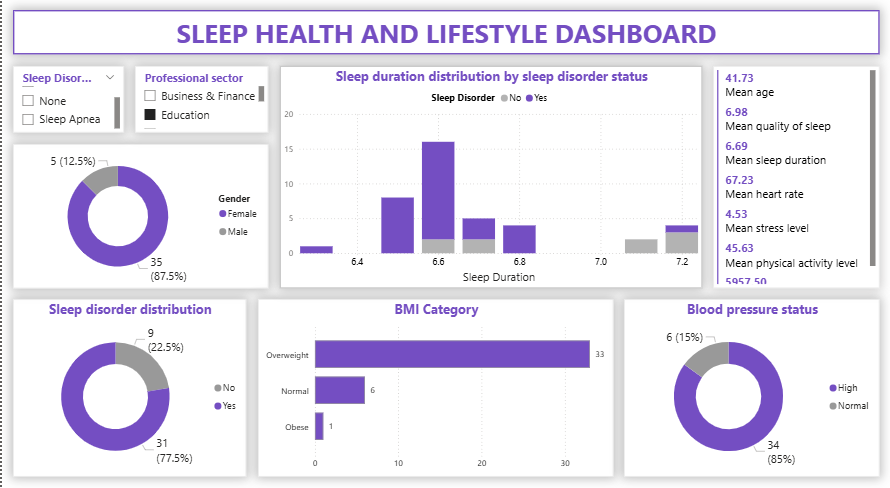

What the dashboard file says about the page in this screenshot:
{"tool":"powerbi","page":{"name":"Page 1","canvas":[1280,720],"ordinal":0},"visuals":[{"type":"textbox","box":[16,32,1248,64],"z":0},{"type":"donutChart","title":"Sleep disorder distribution","fields":{"Y":["CountNonNull(sleep_dataset_cleaned.Column1)"],"Category":["sleep_dataset_cleaned.Sleep_Disorder_Flag"]},"box":[16,448,336,256],"z":1000},{"type":"donutChart","title":"Gender distribution","fields":{"Category":["sleep_dataset_cleaned.Gender"],"Y":["CountNonNull(sleep_dataset_cleaned.Column1)"]},"box":[16,224,368,208],"z":2000},{"type":"slicer","fields":{"Values":["sleep_dataset_cleaned.Sleep Disorder"]},"box":[16,112,160,96],"z":3000},{"type":"slicer","fields":{"Values":["sleep_dataset_cleaned.Occupation_Group"]},"box":[192,112,192,96],"z":4000},{"type":"barChart","title":"BMI Category","fields":{"Category":["sleep_dataset_cleaned.BMI Category"],"Y":["CountNonNull(sleep_dataset_cleaned.Column1)"]},"box":[368,448,512,256],"z":5000},{"type":"donutChart","title":"Blood pressure status","fields":{"Y":["CountNonNull(sleep_dataset_cleaned.Column1)"],"Category":["sleep_dataset_cleaned.BP_Category"]},"box":[896,448,368,256],"z":6000},{"type":"multiRowCard","fields":{"Values":["Avg(sleep_dataset_cleaned.Age)","Avg(sleep_dataset_cleaned.Quality of Sleep)","Avg(sleep_dataset_cleaned.Sleep Duration)","Avg(sleep_dataset_cleaned.Heart Rate)","Avg(sleep_dataset_cleaned.Stress Level)","Avg(sleep_dataset_cleaned.Physical Activity Level)","Avg(sleep_dataset_cleaned.Daily Steps)"]},"box":[1024,112,240,320],"z":7000},{"type":"columnChart","title":"Sleep duration distribution by sleep disorder status","fields":{"Category":["sleep_dataset_cleaned.Sleep Duration"],"Y":["CountNonNull(sleep_dataset_cleaned.Person ID)"],"Series":["sleep_dataset_cleaned.Sleep_Disorder_Flag"]},"box":[400,112,608,320],"z":8000}]}

Visuals, with their boxes in screenshot pixels (x1, y1, x2, y2), scaled from the page's 1280x720 canvas onto the 890x488 screenshot:
textbox: x1=11 y1=22 x2=879 y2=65
"Sleep disorder distribution" donutChart: x1=11 y1=304 x2=245 y2=477
"Gender distribution" donutChart: x1=11 y1=152 x2=267 y2=293
slicer - sleep_dataset_cleaned.Sleep Disorder: x1=11 y1=76 x2=122 y2=141
slicer - sleep_dataset_cleaned.Occupation_Group: x1=134 y1=76 x2=267 y2=141
"BMI Category" barChart: x1=256 y1=304 x2=612 y2=477
"Blood pressure status" donutChart: x1=623 y1=304 x2=879 y2=477
multiRowCard - Avg(sleep_dataset_cleaned.Age) x Avg(sleep_dataset_cleaned.Quality of Sleep): x1=712 y1=76 x2=879 y2=293
"Sleep duration distribution by sleep disorder status" columnChart: x1=278 y1=76 x2=701 y2=293
